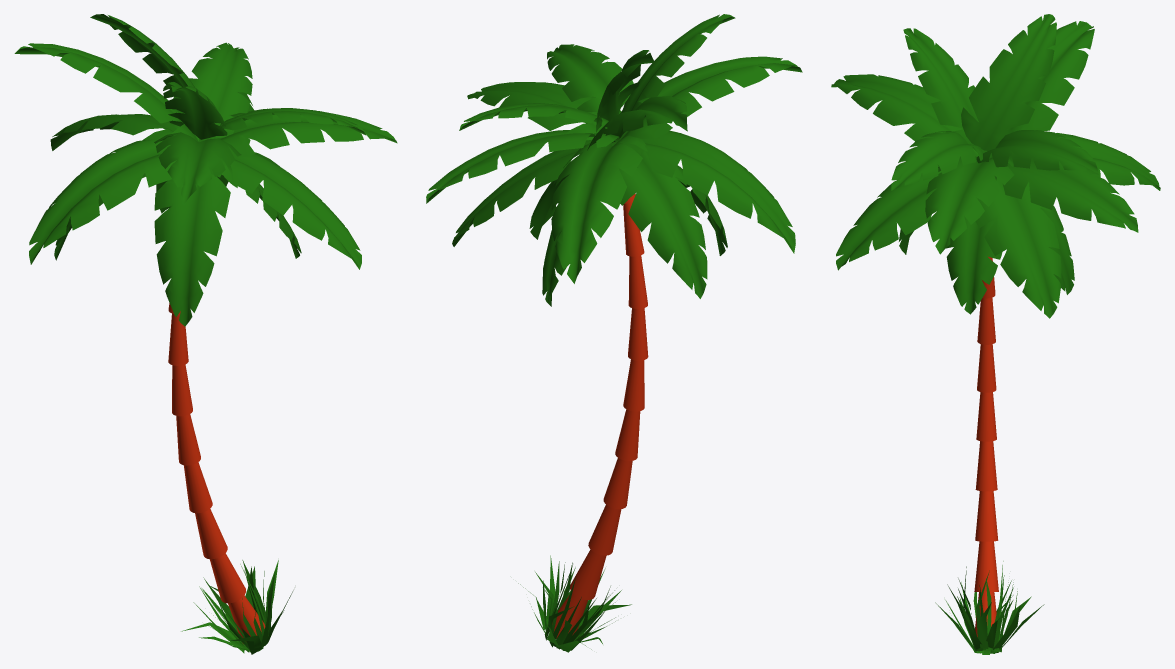
Rendered from Fbx_PalmTree.FBX.
3 renders of one model, left to right at view 1: azimuth 30°, elevation 25°; view 2: azimuth 150°, elevation 25°; view 3: azimuth 270°, elevation 25°, orthographic. The views are drawn at different scales.
Visible parts, largest first — view 1: PalmTree006; view 2: PalmTree006; view 3: PalmTree006.
Part boxes in pixels (box(x1,y1,x2,y2)): PalmTree006: box(14, 14, 397, 654); PalmTree006: box(426, 14, 802, 652); PalmTree006: box(831, 14, 1160, 654).
Size of the model in its own units: 173 by 308 by 156.
